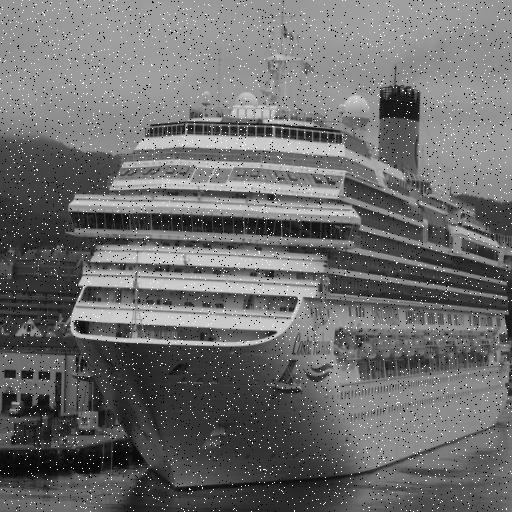cruises: (64, 14, 512, 501)
